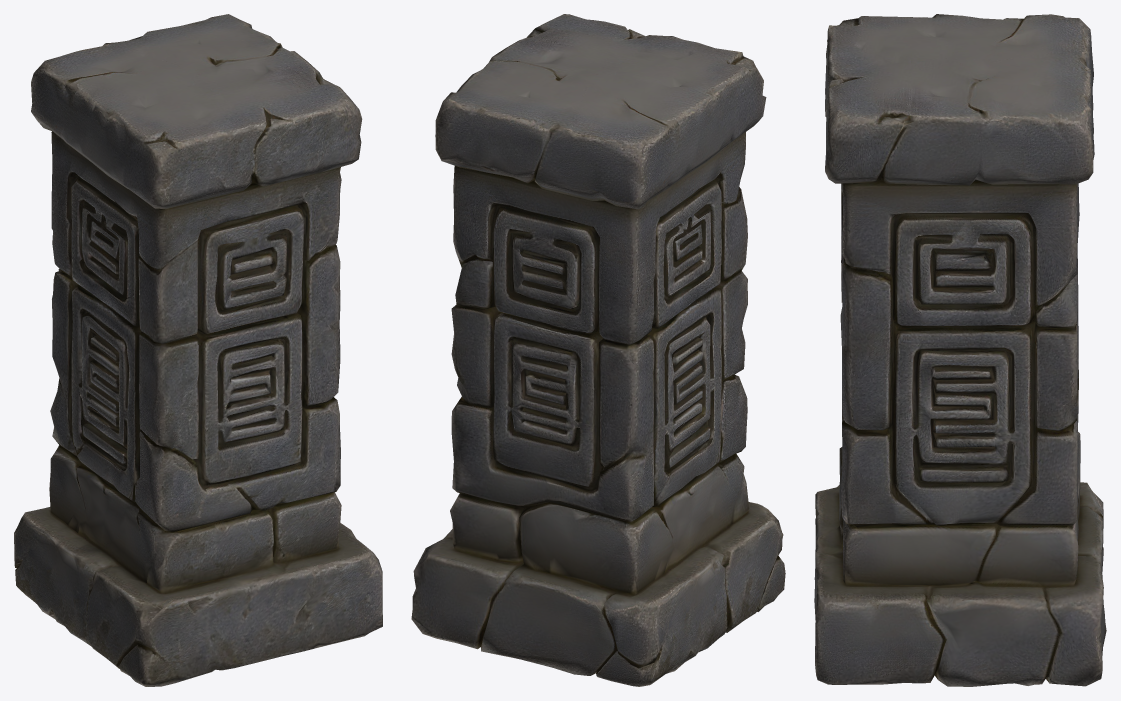
Rendered from pillar.glb.
3 renders of one model, left to right at view 1: azimuth 30°, elevation 25°; view 2: azimuth 150°, elevation 25°; view 3: azimuth 270°, elevation 25°, orthographic. The views are drawn at different scales.
Visible parts, largest first — view 1: tripo_node_3551c54c-6333-48f8-aeea-842392ad599f; view 2: tripo_node_3551c54c-6333-48f8-aeea-842392ad599f; view 3: tripo_node_3551c54c-6333-48f8-aeea-842392ad599f.
Part boxes in pixels (bbox=[...]): tripo_node_3551c54c-6333-48f8-aeea-842392ad599f: bbox=[14, 14, 382, 686]; tripo_node_3551c54c-6333-48f8-aeea-842392ad599f: bbox=[411, 14, 785, 686]; tripo_node_3551c54c-6333-48f8-aeea-842392ad599f: bbox=[814, 14, 1106, 686].
Bounding box in the file's own units: 0.9438 × 2 × 0.9375.
Materials: 1 (1 with a texture image).
